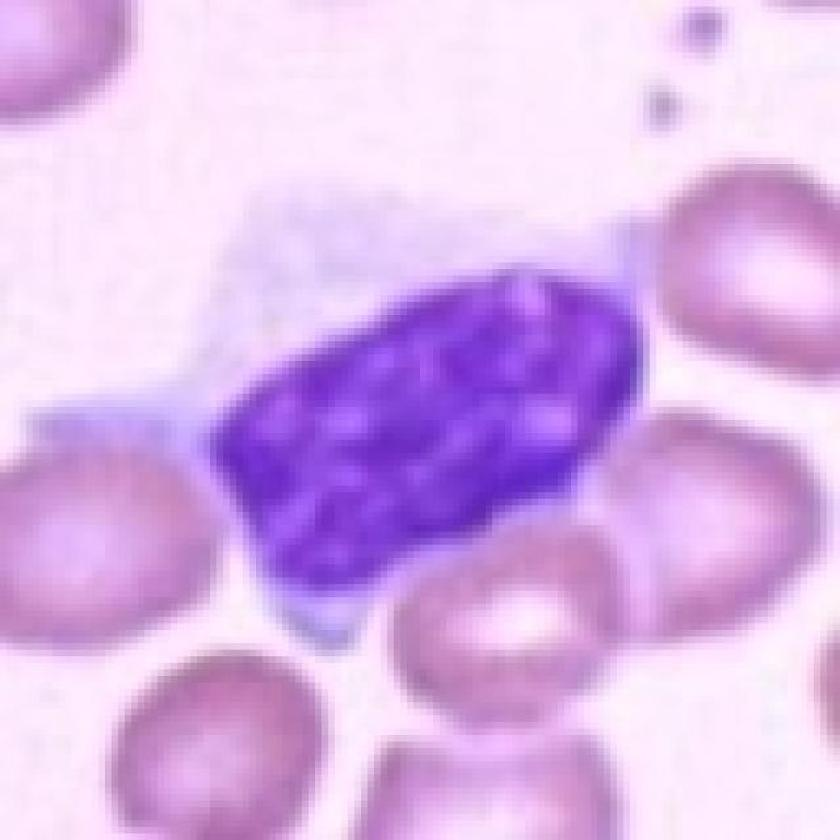lymphocyte: (28, 164, 682, 653)
